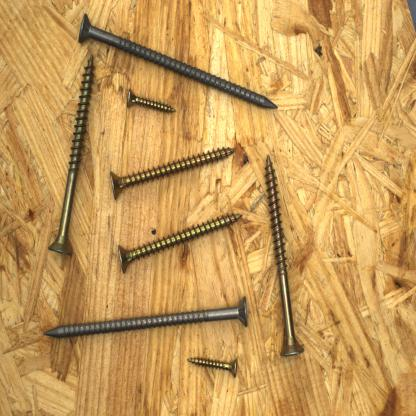screw: (74, 12, 281, 112), (46, 51, 97, 260), (41, 293, 250, 342), (263, 151, 307, 359), (116, 210, 246, 276), (108, 145, 238, 203), (123, 84, 178, 116), (184, 354, 241, 381)
